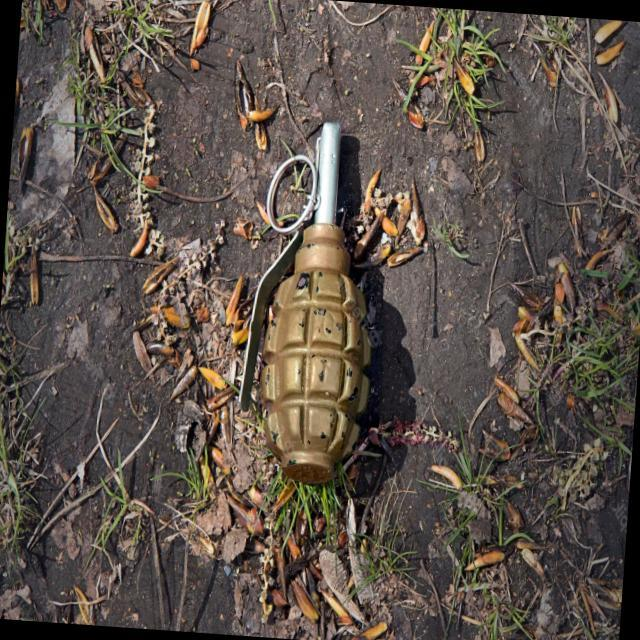grenade: (234, 94, 397, 482)
